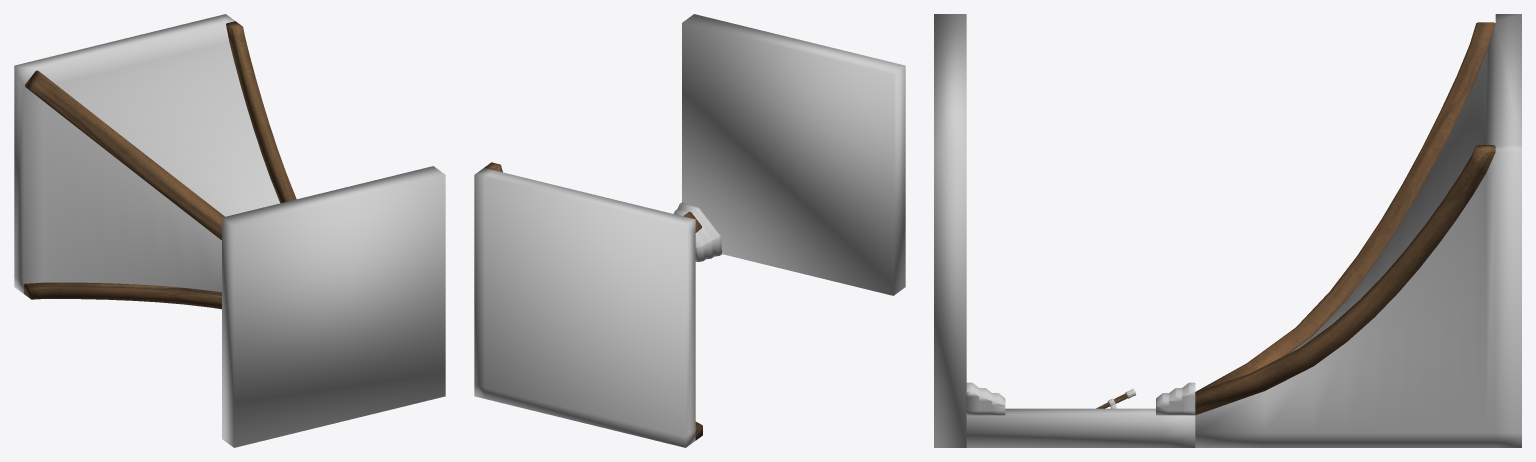
The model's file is Groin Vault.fbx.
The picture shows the model from 3 angles, left to right: view 1: azimuth 30°, elevation 25°; view 2: azimuth 150°, elevation 25°; view 3: azimuth 270°, elevation 25°; orthographic projection. The views are drawn at different scales.
Visible parts, largest first — view 1: zemin_5x5, kubbe, ahsap_kiris; view 2: kubbe, zemin_5x5, alt_kaide; view 3: kubbe, ahsap_kiris, zemin_5x5, sutun, ust_kaide, alt_kaide.
Boxes of the visible parts, <box> form: zemin_5x5: <box>222,166,445,447</box>; kubbe: <box>14,14,279,293</box>; ahsap_kiris: <box>24,21,296,309</box>; kubbe: <box>474,168,695,447</box>; zemin_5x5: <box>682,14,905,295</box>; alt_kaide: <box>673,202,721,261</box>; kubbe: <box>1195,14,1521,447</box>; ahsap_kiris: <box>1195,22,1495,415</box>; zemin_5x5: <box>934,14,966,447</box>; sutun: <box>966,408,1195,447</box>; ust_kaide: <box>1156,382,1195,415</box>; alt_kaide: <box>966,382,1005,415</box>.
Size of the model in its own units: 500 by 500 by 900.
